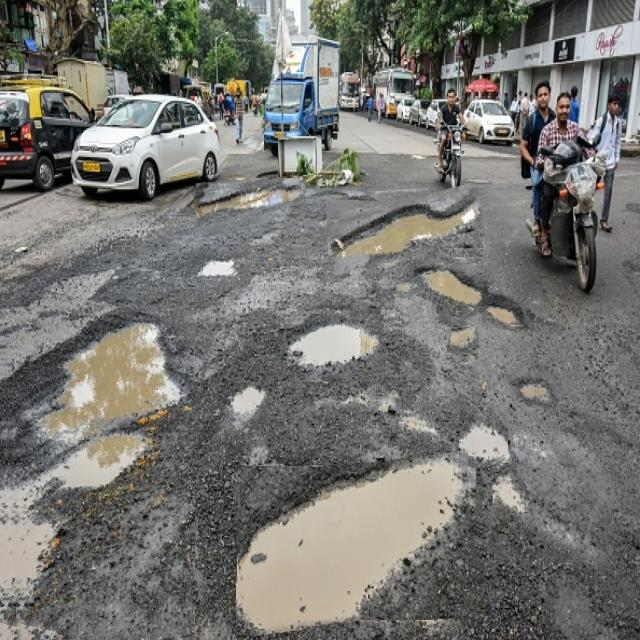Pothole: (0, 298, 195, 640), (236, 458, 482, 629), (489, 468, 614, 563), (324, 192, 483, 266), (396, 263, 534, 329), (278, 311, 386, 381), (194, 178, 306, 233), (546, 575, 633, 640), (461, 405, 508, 467), (509, 363, 559, 417), (193, 244, 251, 289), (223, 382, 269, 426), (447, 327, 479, 353)
